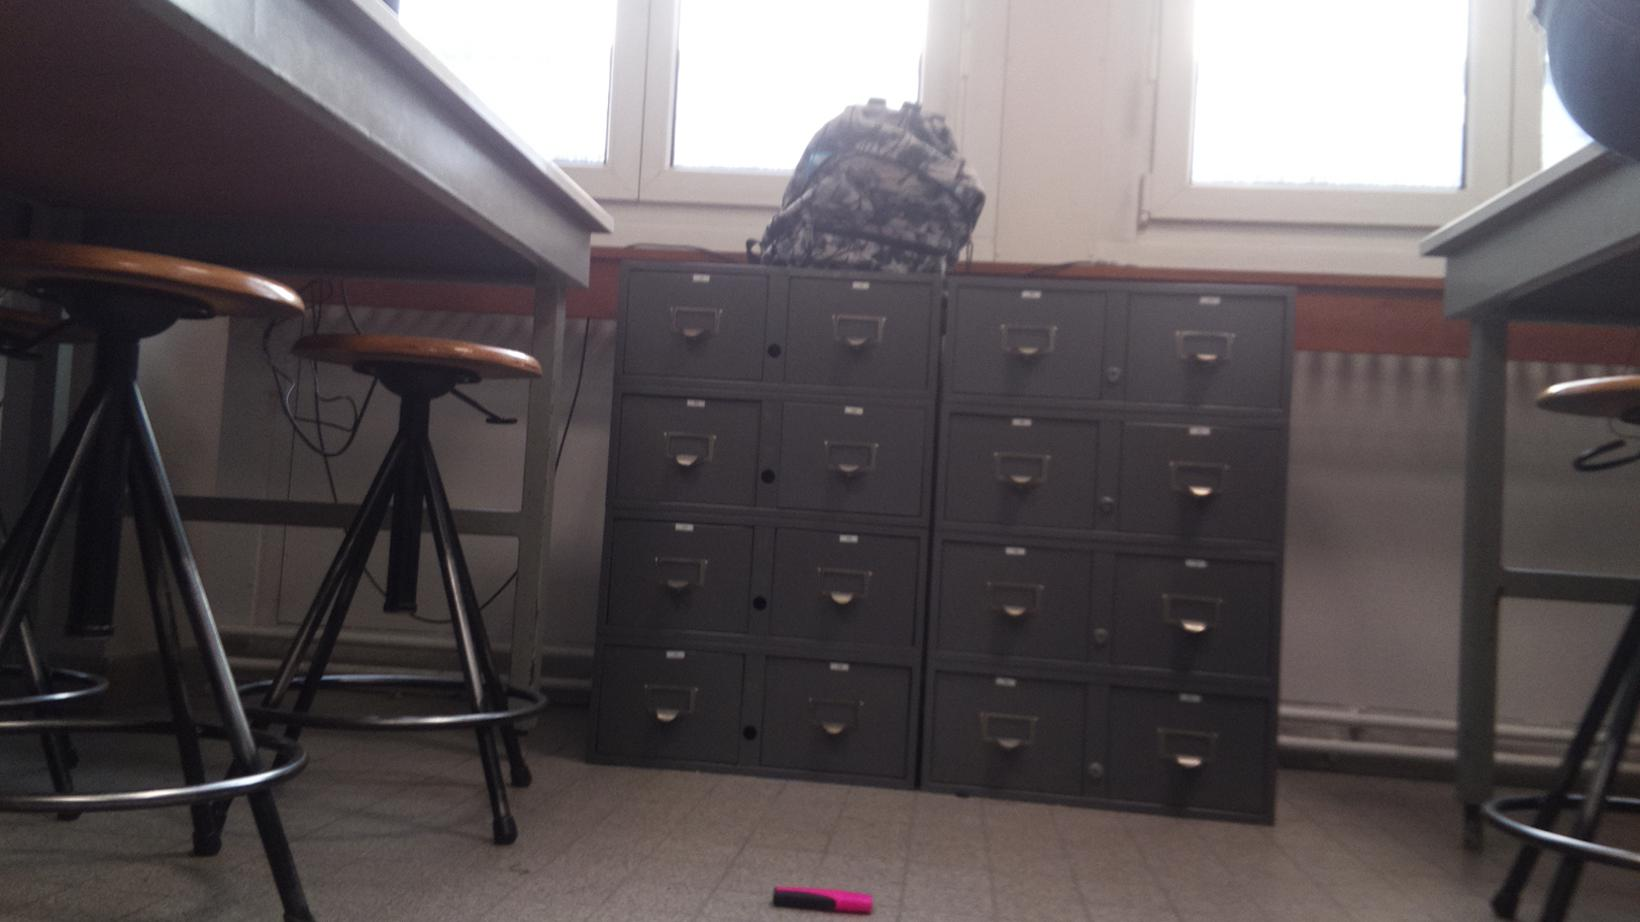big: (745, 96, 995, 275)
small: (765, 881, 874, 922)
